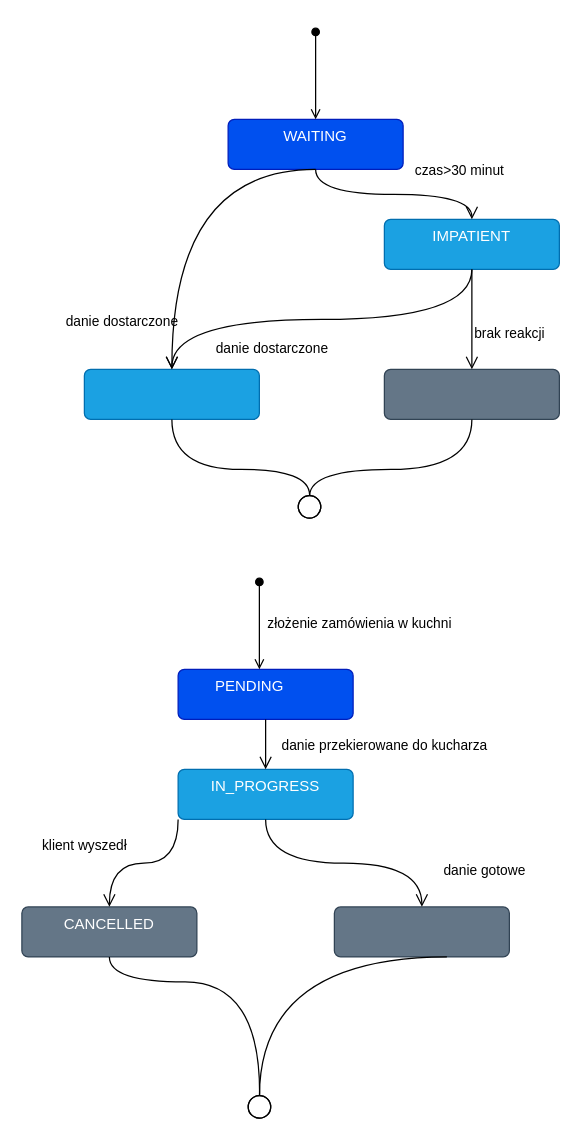
This 581x1140 diagram has some shape labels left out. Here are the shapes that lost their labels. From the top down, the centre of each, then its label:
At [171,393]: "SERVED".
At [471,393]: "LEFT".
At [421,931]: "READY".
